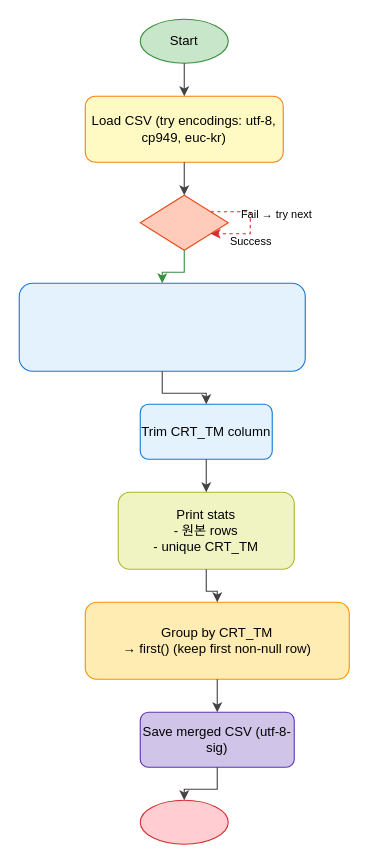
The diagram is 369 pixels wide and 864 high, and some of its shapes have lost their labels. The centre of each missing label's shape, as x and y in pixels:
"Clean columns - strip whitespace - remove '\r' - drop Unnamed columns" goes at (161,326).
"Encoding try / except" goes at (183,222).
"End" goes at (183,821).
